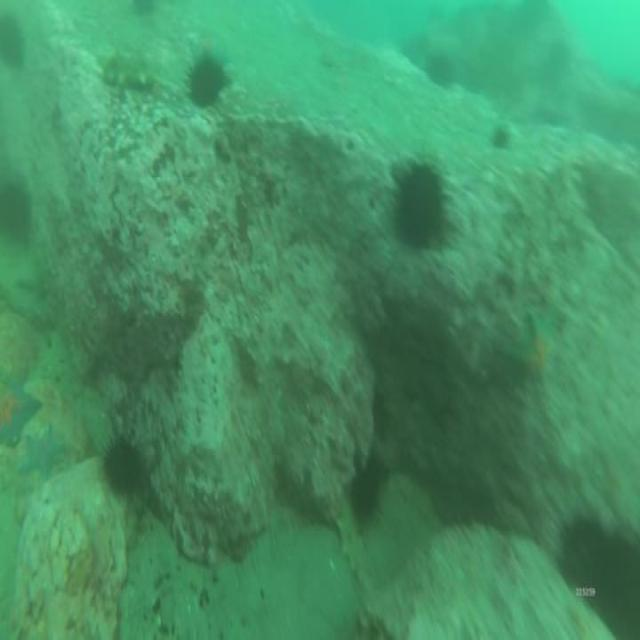echinus: (597, 538, 640, 636), (397, 161, 442, 251), (560, 514, 601, 596), (103, 443, 144, 496), (353, 465, 379, 526), (193, 54, 222, 106)
holothurian: (106, 49, 149, 92)
starfish: (513, 314, 561, 370), (0, 382, 38, 428), (24, 438, 64, 479)
